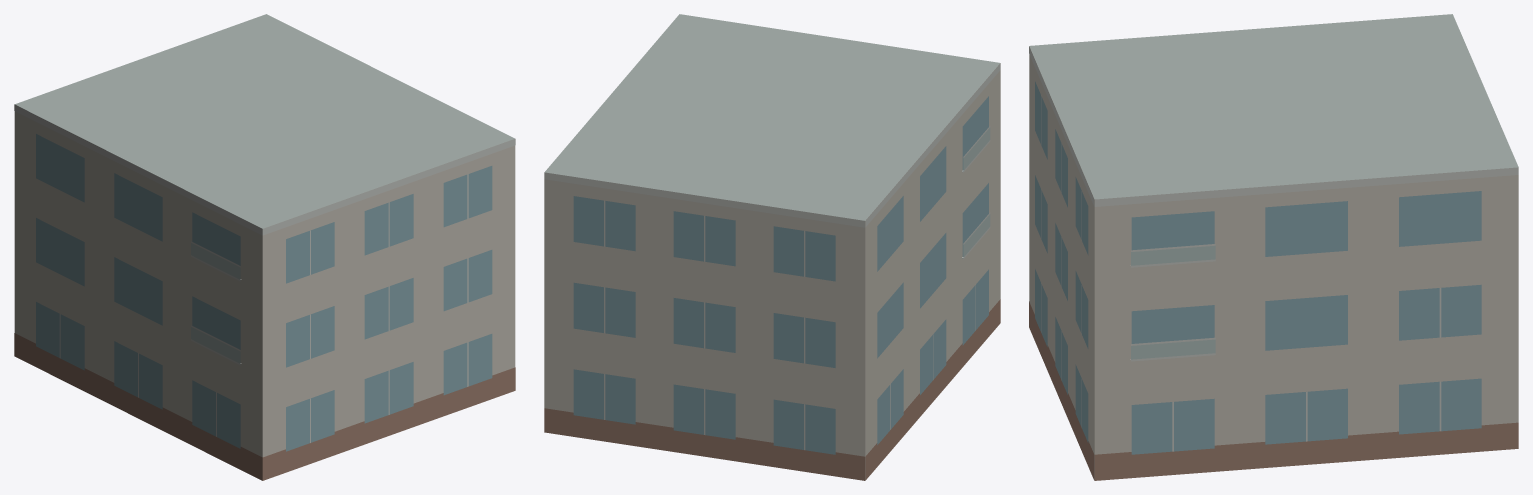
Rendered from survey-upis-32707338.glb.
3 views of the same model, side by side, from view 1: azimuth 30°, elevation 25°; view 2: azimuth 150°, elevation 25°; view 3: azimuth 270°, elevation 25° (orthographic). The views are drawn at different scales.
Visible parts, largest first — view 1: survey-upis-32707338.tmp; view 2: survey-upis-32707338.tmp; view 3: survey-upis-32707338.tmp.
Part boxes in pixels (<box>): survey-upis-32707338.tmp: <box>14,14,515,480</box>; survey-upis-32707338.tmp: <box>544,14,1000,480</box>; survey-upis-32707338.tmp: <box>1029,14,1518,480</box>.
Size of the model in its own units: 12.95 by 9.15 by 14.44.
